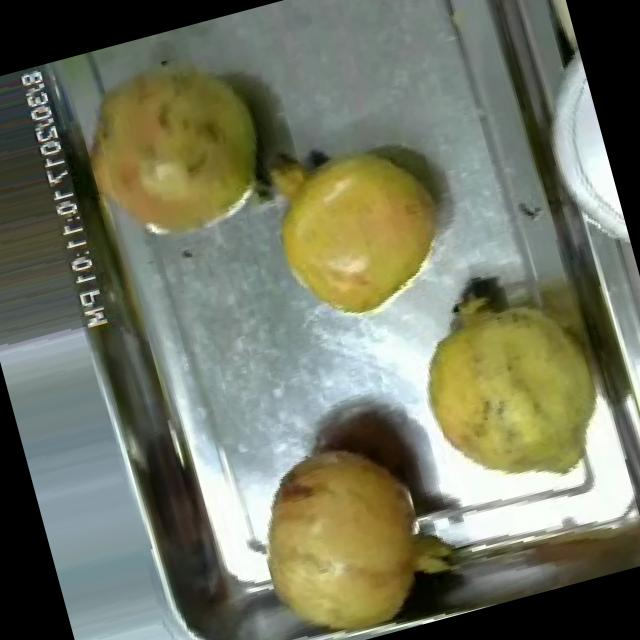fruit: (388, 252, 634, 508), (219, 409, 479, 640), (62, 28, 292, 264), (248, 117, 476, 345)
